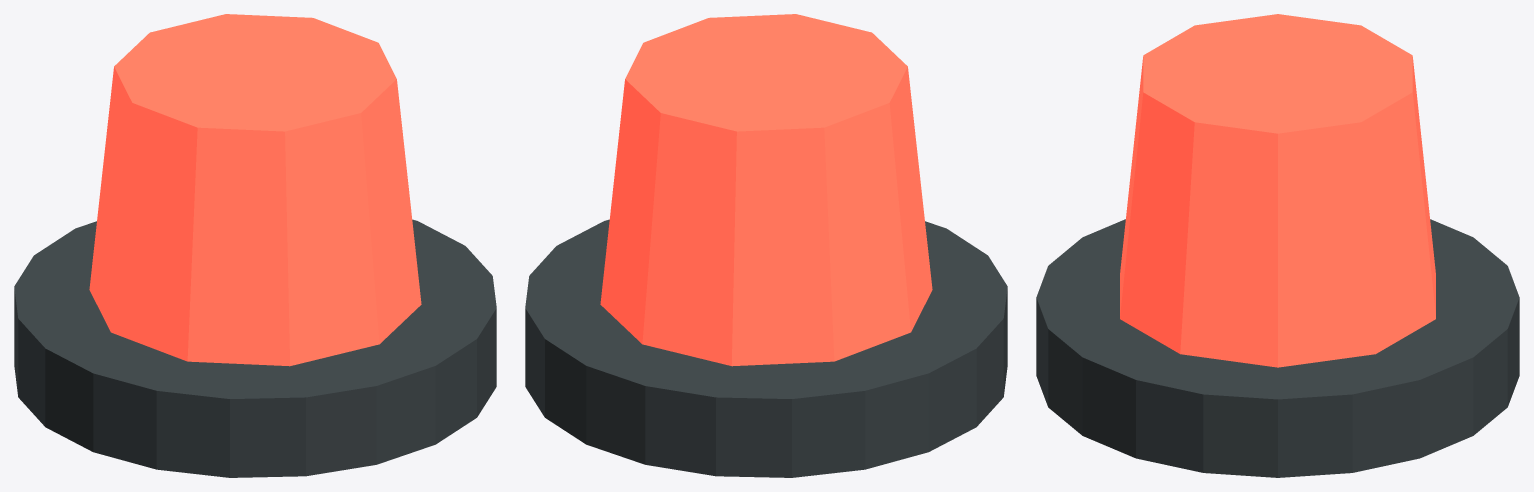
File: SC_Beacon.glb
3 renders of one model, left to right at view 1: azimuth 30°, elevation 25°; view 2: azimuth 150°, elevation 25°; view 3: azimuth 270°, elevation 25°, orthographic.
Parts seen in each view (by area): view 1: SC_Beacon; view 2: SC_Beacon; view 3: SC_Beacon.
Boxes of the visible parts, box(x1,y1,x2,y2) form: SC_Beacon: box(14, 14, 496, 477); SC_Beacon: box(525, 14, 1007, 477); SC_Beacon: box(1036, 14, 1519, 477).
Size of the model in its own units: 2.9 by 2 by 2.9.
Materials: 2 (2 with a texture image).
